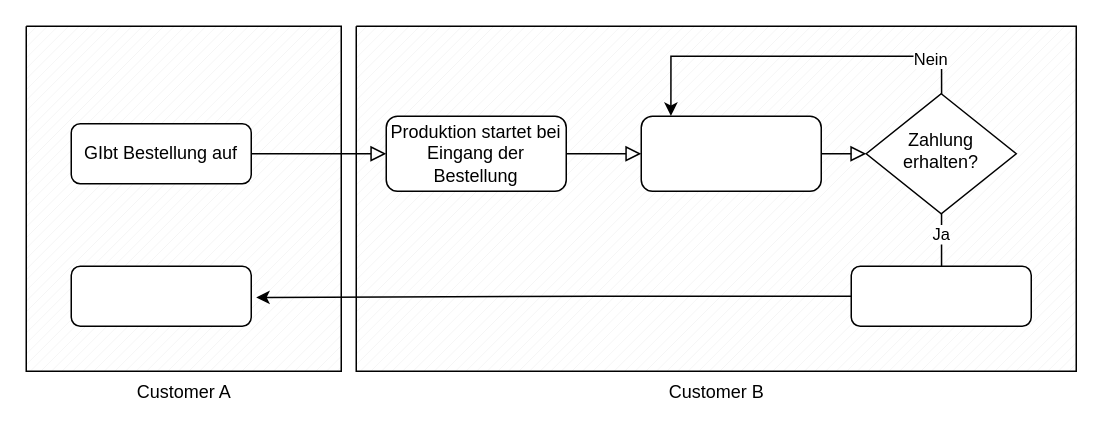
The diagram is 1103 pixels wide and 429 high, and some of its shapes have lost their labels. The shapes that lost their labels are listed below. From the top down, each one's centre as x and y in pixels, then its label:
(730,153): Produkt eingelagert
(160,295): Bestätigt das Erhalten seiner Bestellung
(940,295): Produkt verlässt das Lager
